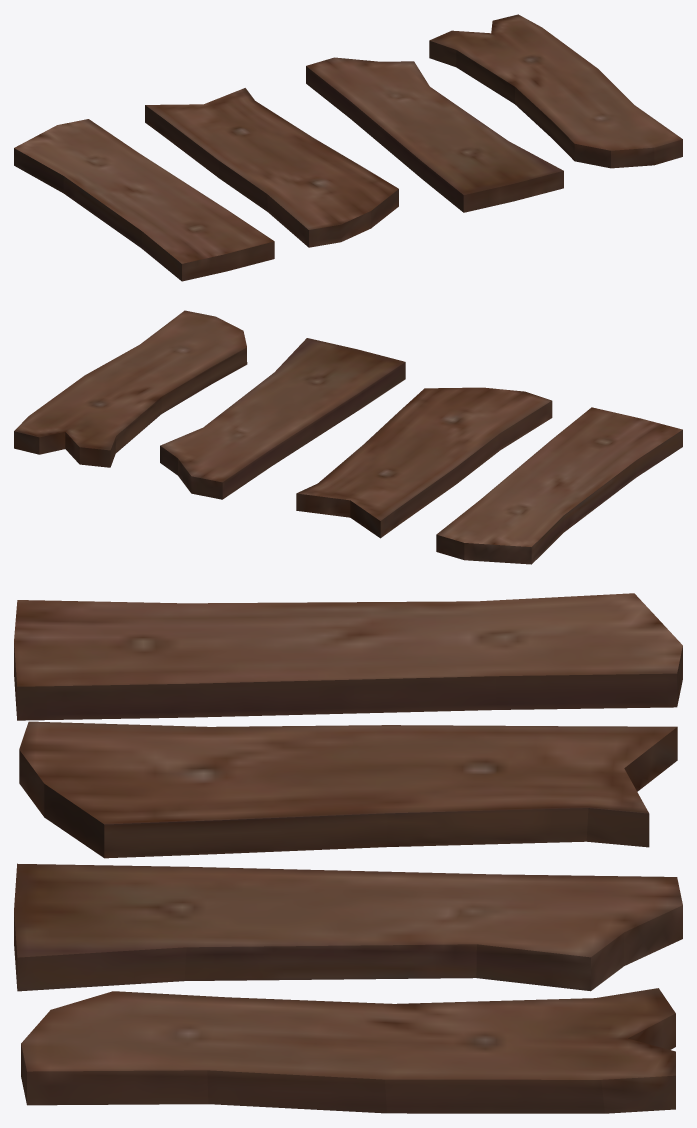
File: FB6_mubankuai.FBX
3 renders of one model, top to bottom at view 1: azimuth 30°, elevation 25°; view 2: azimuth 150°, elevation 25°; view 3: azimuth 270°, elevation 25°, orthographic. The views are drawn at different scales.
Parts seen in each view (by area): view 1: FB6_mubankuai01, FB6_mubankuai02, FB6_mubankuai04, FB6_mubankuai03; view 2: FB6_mubankuai01, FB6_mubankuai02, FB6_mubankuai04, FB6_mubankuai03; view 3: FB6_mubankuai01, FB6_mubankuai02, FB6_mubankuai04, FB6_mubankuai03.
Boxes of the visible parts, bbox=[...] form: FB6_mubankuai01: bbox=[145, 88, 398, 247]; FB6_mubankuai02: bbox=[14, 119, 274, 281]; FB6_mubankuai04: bbox=[306, 57, 563, 212]; FB6_mubankuai03: bbox=[429, 14, 682, 168]; FB6_mubankuai01: bbox=[296, 387, 552, 538]; FB6_mubankuai02: bbox=[436, 407, 682, 564]; FB6_mubankuai04: bbox=[160, 338, 405, 499]; FB6_mubankuai03: bbox=[14, 310, 247, 467]; FB6_mubankuai01: bbox=[19, 721, 677, 858]; FB6_mubankuai02: bbox=[14, 593, 682, 720]; FB6_mubankuai04: bbox=[14, 863, 682, 991]; FB6_mubankuai03: bbox=[21, 988, 675, 1113].
Size of the model in its own units: 31.59 by 1.02 by 18.35.
1 material, 1 textured.
